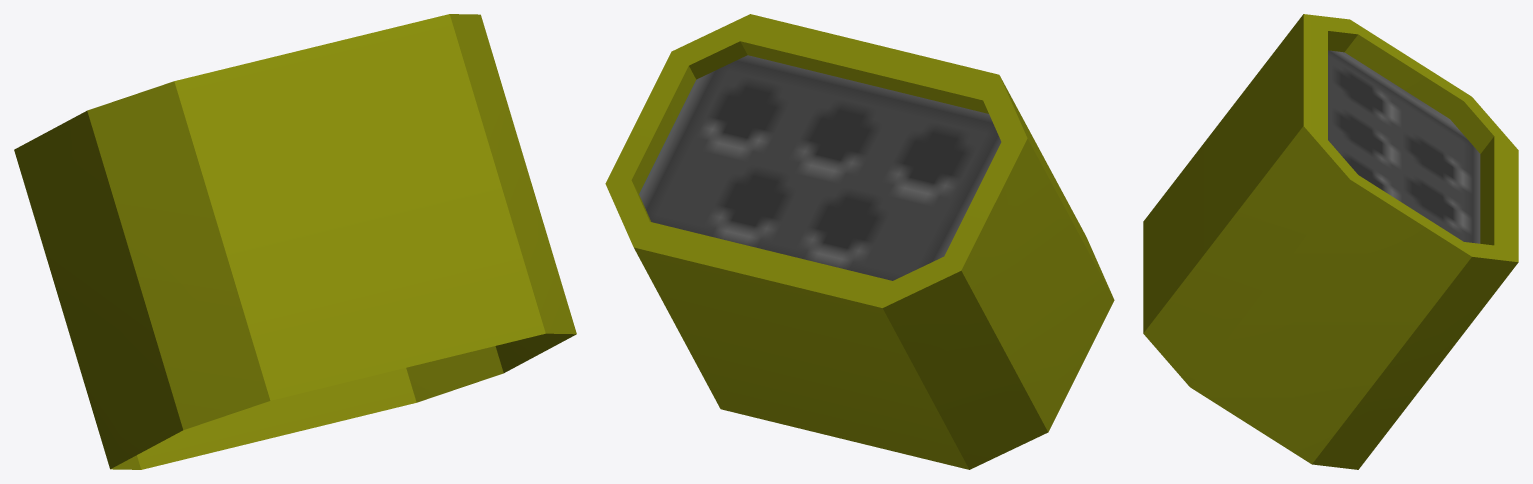
File: RocketLauncher1Enemy4.fbx
The picture shows the model from 3 angles, left to right: view 1: azimuth 30°, elevation 25°; view 2: azimuth 150°, elevation 25°; view 3: azimuth 270°, elevation 25°; orthographic projection. The views are drawn at different scales.
Parts seen in each view (by area): view 1: RocketLauncher1Enemy4; view 2: RocketLauncher1Enemy4; view 3: RocketLauncher1Enemy4.
Part boxes in pixels (bbox=[...]): RocketLauncher1Enemy4: bbox=[14, 14, 576, 469]; RocketLauncher1Enemy4: bbox=[605, 14, 1114, 469]; RocketLauncher1Enemy4: bbox=[1143, 14, 1518, 469].
Bounding box in the file's own units: 0.4771 × 0.4813 × 0.4825.
